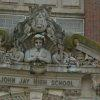Statue: (11, 10, 76, 73)
